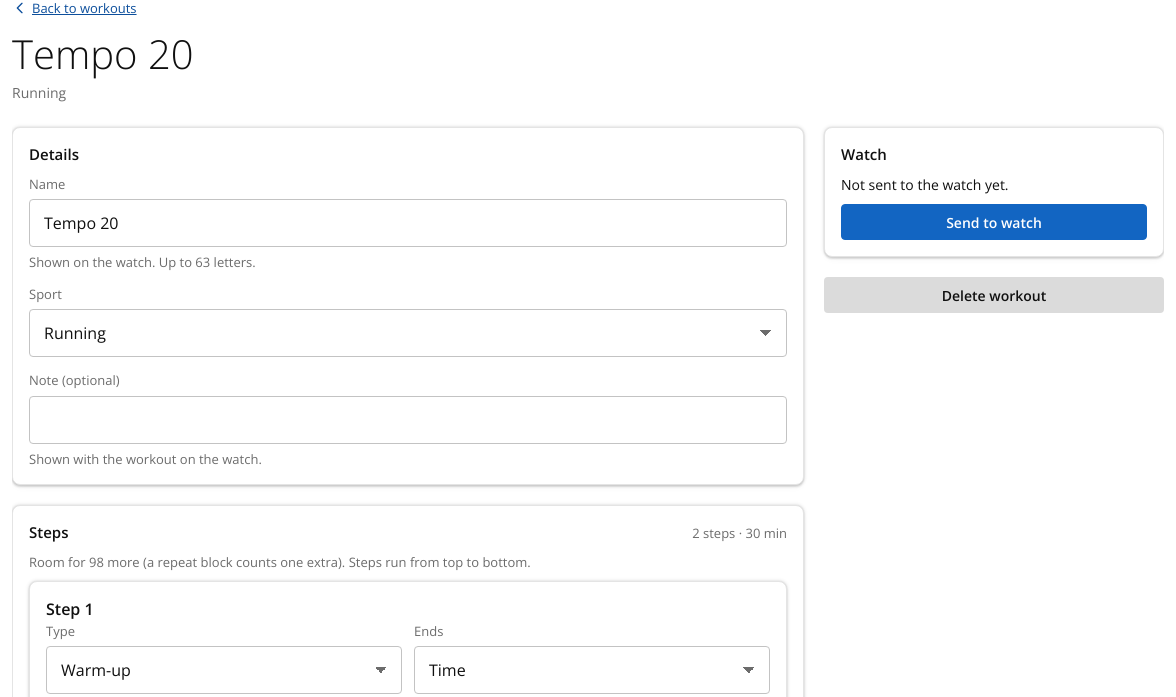
Test case: a saved workout › opens with its values and saves a change with a PUT
Expected: the heading "Tempo 20" is shown, [12,29,194,79]
Replace the text in the field labelled "Name" with "Tempo 25" at (408, 223), box [29,199,787,247]
(page scrolled)
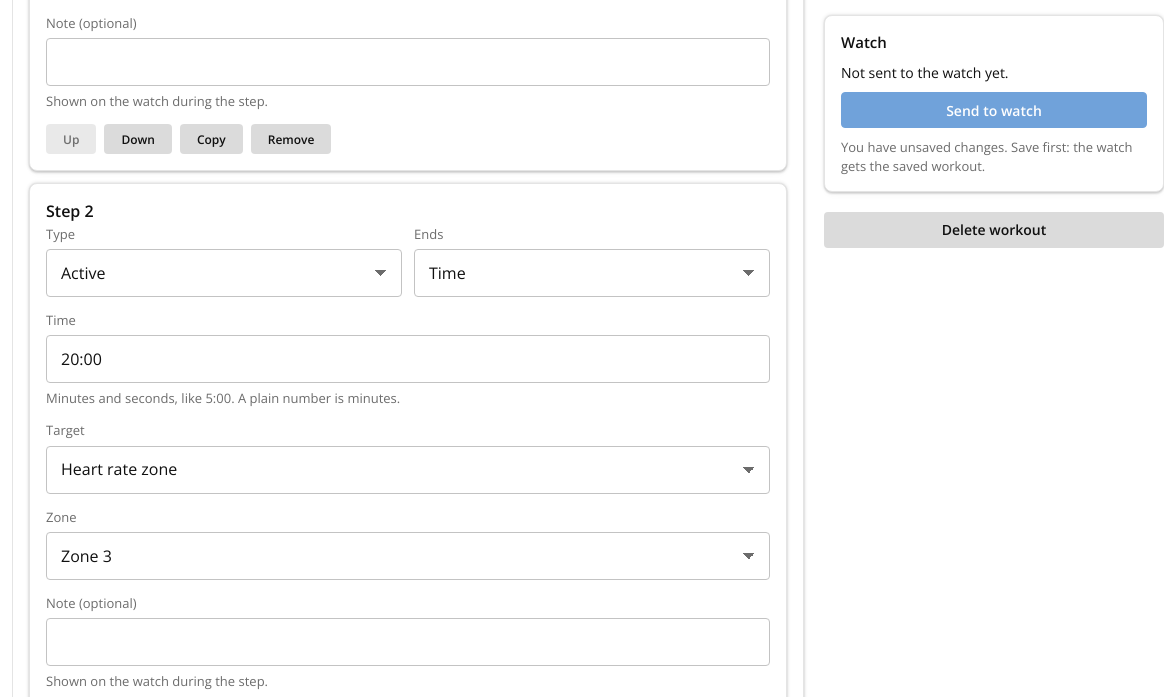
Replace the text in the field labelled "Time" with "25:00" at (408, 359), box [46,335,770,383]
(page scrolled)
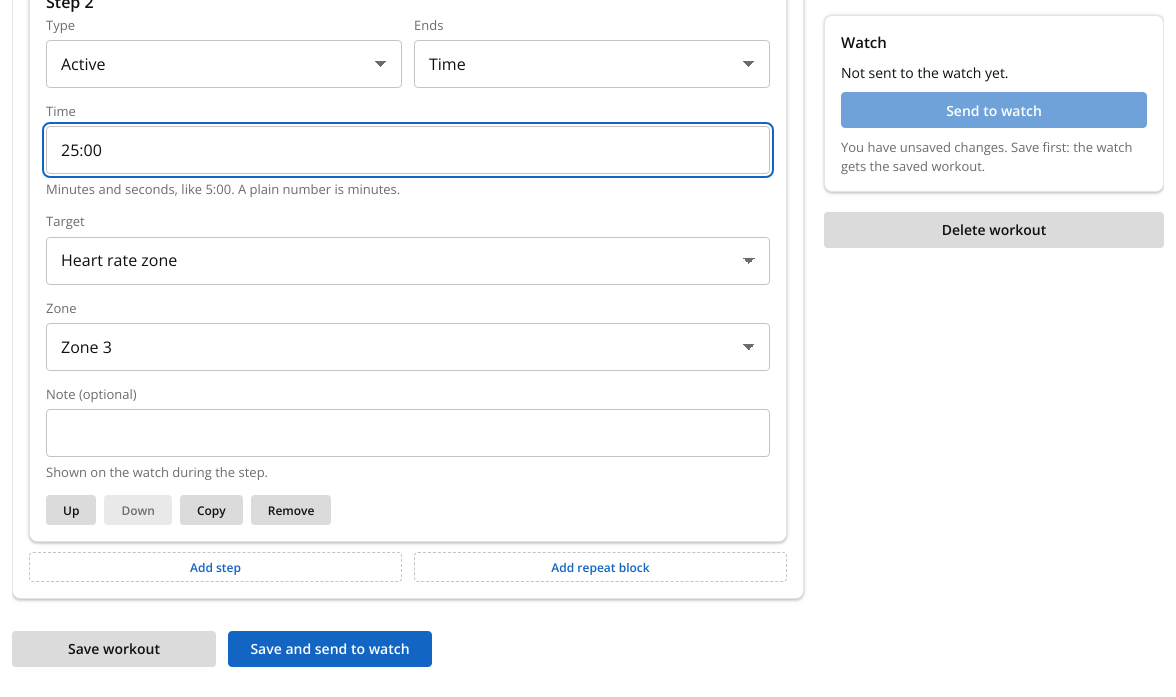
Click the button "Save workout" at (114, 649), box [12,631,216,667]
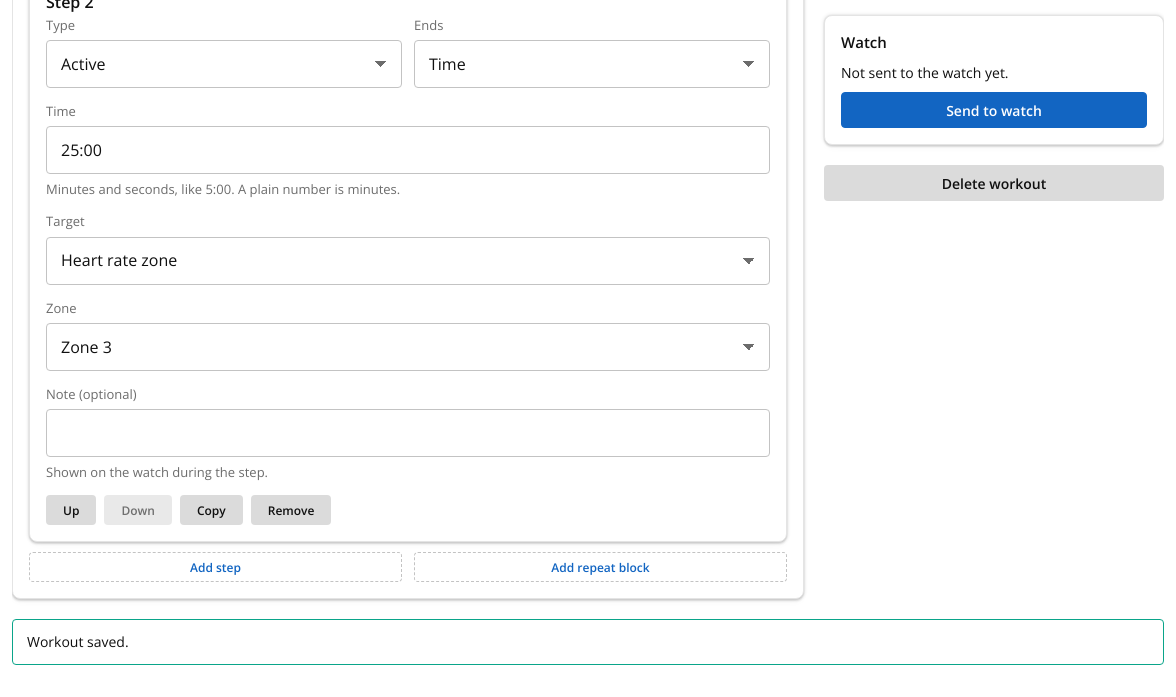
Expected: the text "Workout saved." is shown, [12,619,1164,665]
